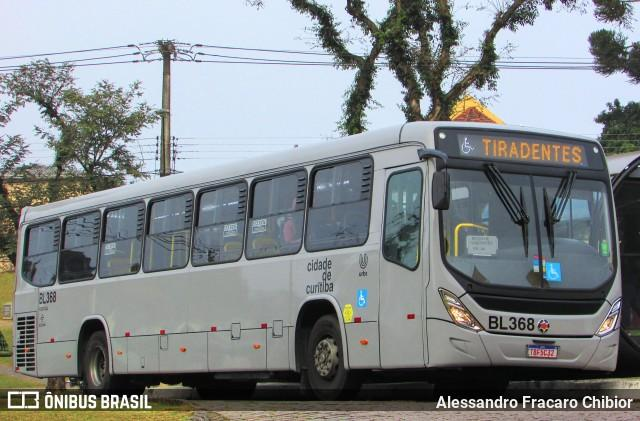TIRADENTES: (479, 135, 585, 166)
